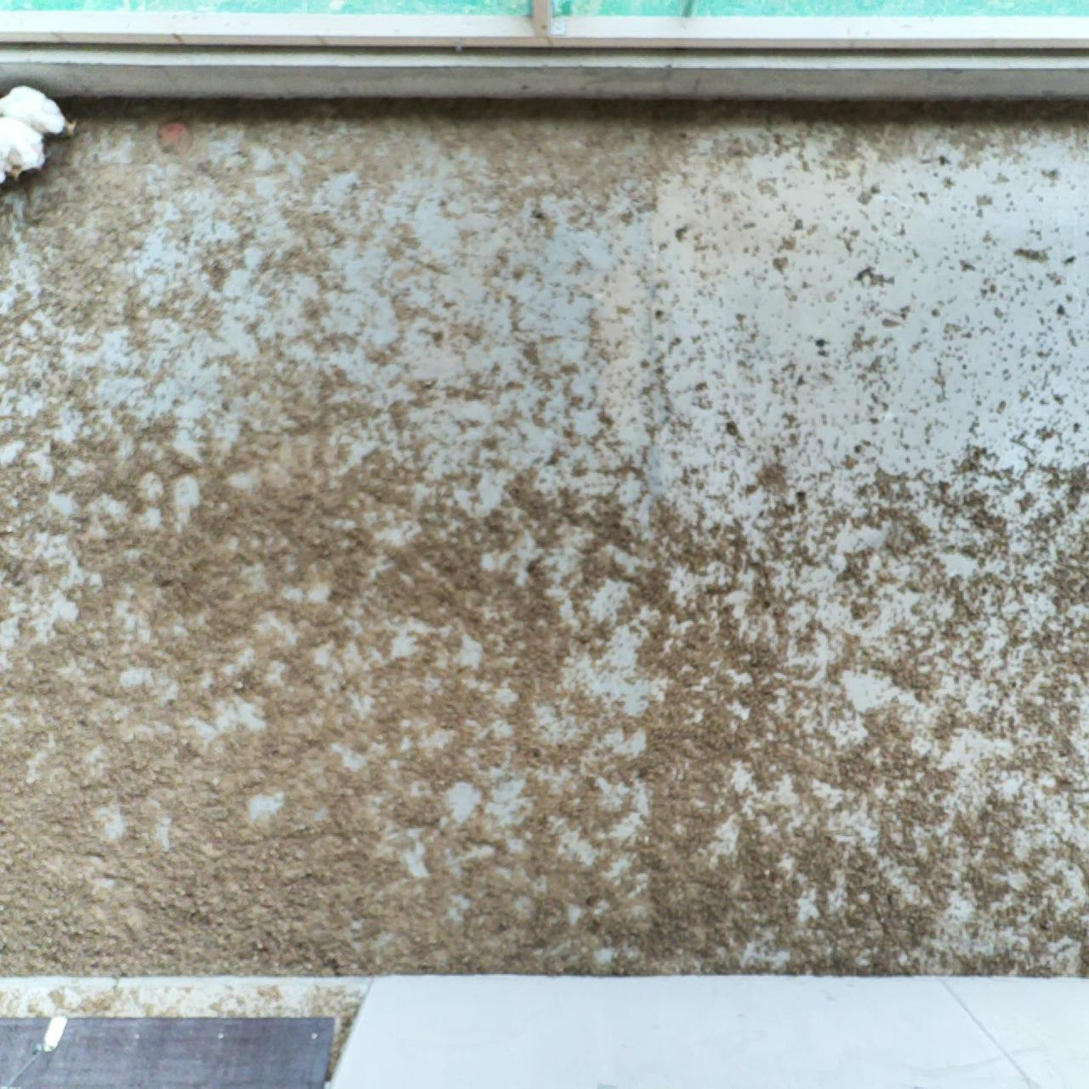chicken: (0, 82, 83, 140), (0, 112, 51, 184)
